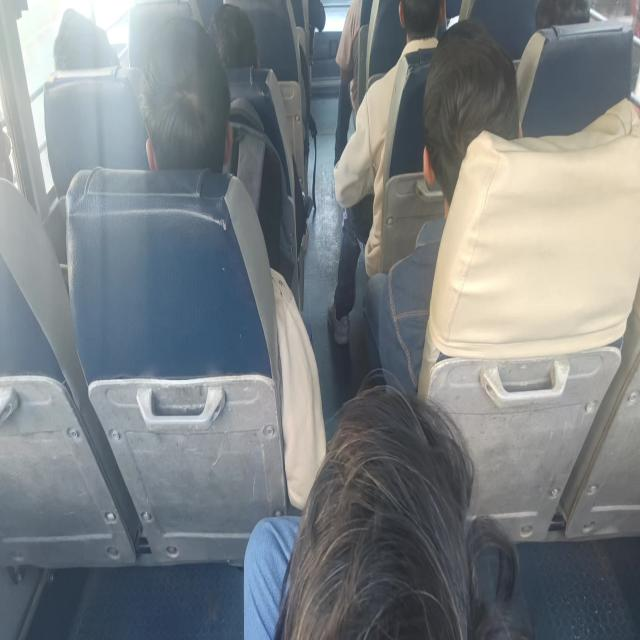person: (137, 15, 327, 511), (242, 380, 524, 638), (362, 18, 522, 394), (327, 0, 445, 345), (138, 16, 234, 172), (52, 7, 120, 71), (206, 3, 259, 69)
